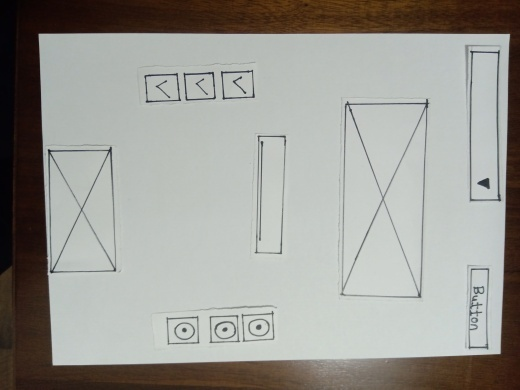button: (467, 269, 490, 348)
checkbox: (256, 136, 285, 253), (222, 72, 257, 97), (142, 76, 177, 101), (184, 74, 214, 103)
dropdown: (470, 51, 499, 202)
img: (339, 98, 423, 297), (49, 150, 114, 271)
radio: (165, 316, 202, 344), (243, 316, 273, 341), (209, 315, 235, 343)
